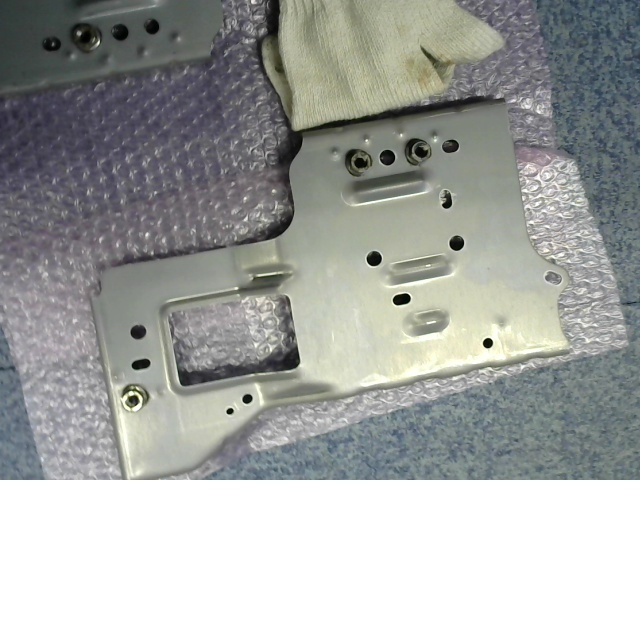dog: (71, 23, 102, 53), (345, 149, 373, 178), (404, 139, 432, 167), (120, 386, 149, 412)
